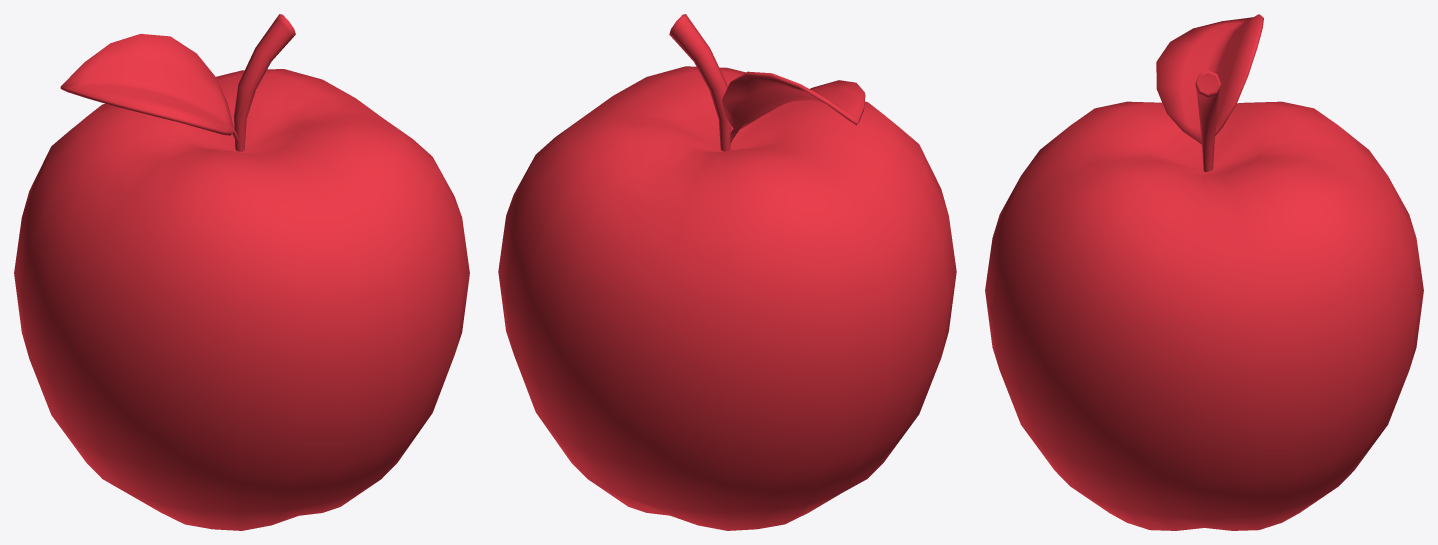
Rendered from MelaRossa.fbx.
3 renders of one model, left to right at view 1: azimuth 30°, elevation 25°; view 2: azimuth 150°, elevation 25°; view 3: azimuth 270°, elevation 25°, orthographic. The views are drawn at different scales.
Visible parts, largest first — view 1: Mela.001; view 2: Mela.001; view 3: Mela.001.
Boxes of the visible parts, <box> form: Mela.001: <box>14,14,469,530</box>; Mela.001: <box>498,14,956,530</box>; Mela.001: <box>985,14,1423,530</box>.
Size of the model in its own units: 203 by 231 by 203.
